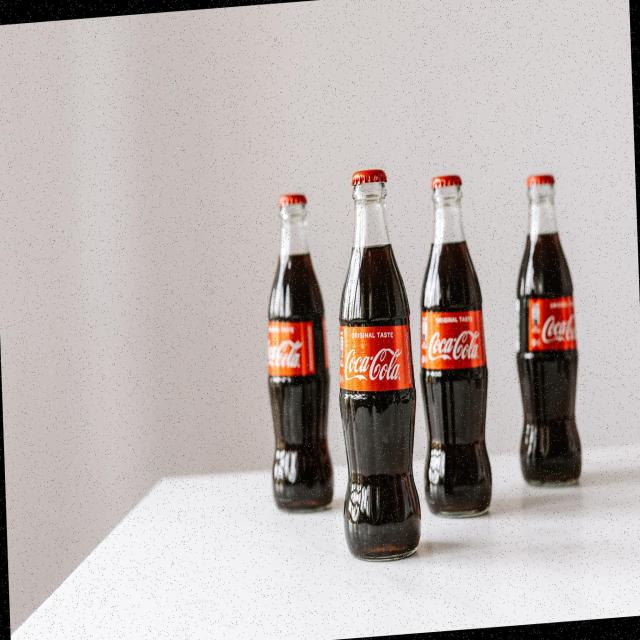coca-cola: (330, 157, 424, 559), (412, 165, 501, 529), (504, 164, 589, 491), (256, 180, 338, 516)
